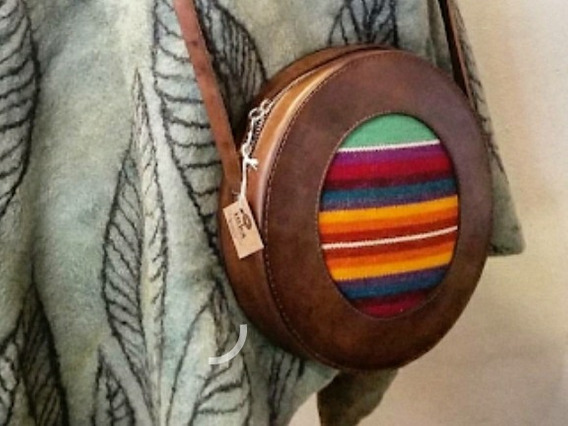cartera: (214, 43, 494, 376)
